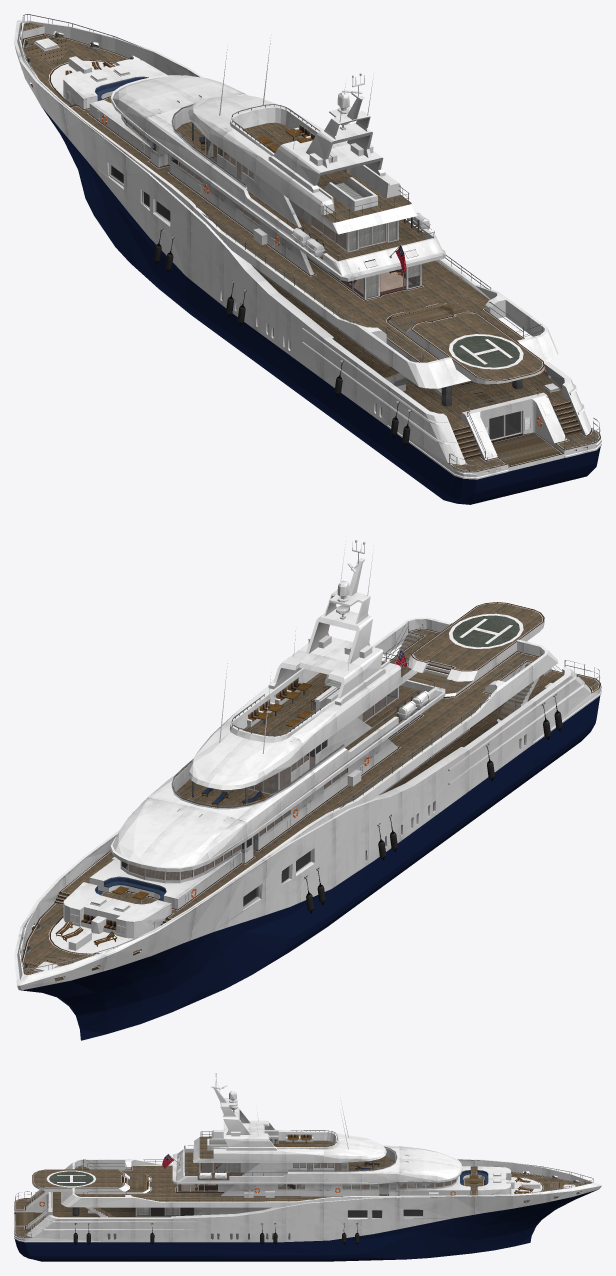
The model's file is frickie.glb.
3 renders of one model, top to bottom at view 1: azimuth 30°, elevation 25°; view 2: azimuth 150°, elevation 25°; view 3: azimuth 270°, elevation 25°, orthographic. The views are drawn at different scales.
Size of the model in its own units: 15.94 by 28.65 by 90.
43 materials, 39 textured.
